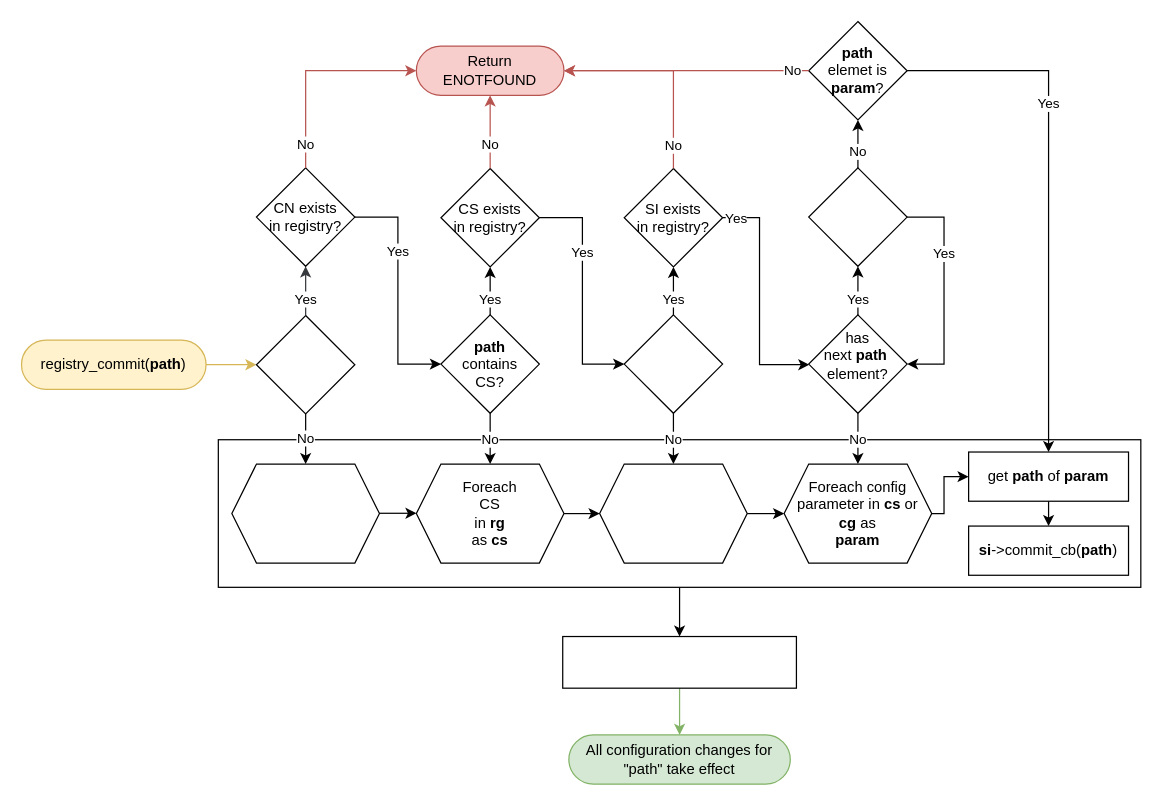
This 1162x806 diagram has some shape labels left out. Here are the shapes that lost their labels. From the top down, the centre of each, then its label:
At (x=857, y=216): "path element is CG?".
At (x=305, y=364): "path contains CN?".
At (x=673, y=363): "path contains SI?".
At (x=305, y=513): "Foreach CN as rg".
At (x=672, y=513): "Foreach SI in cs as si".
At (x=678, y=661): "Modules/drivers apply changes".
